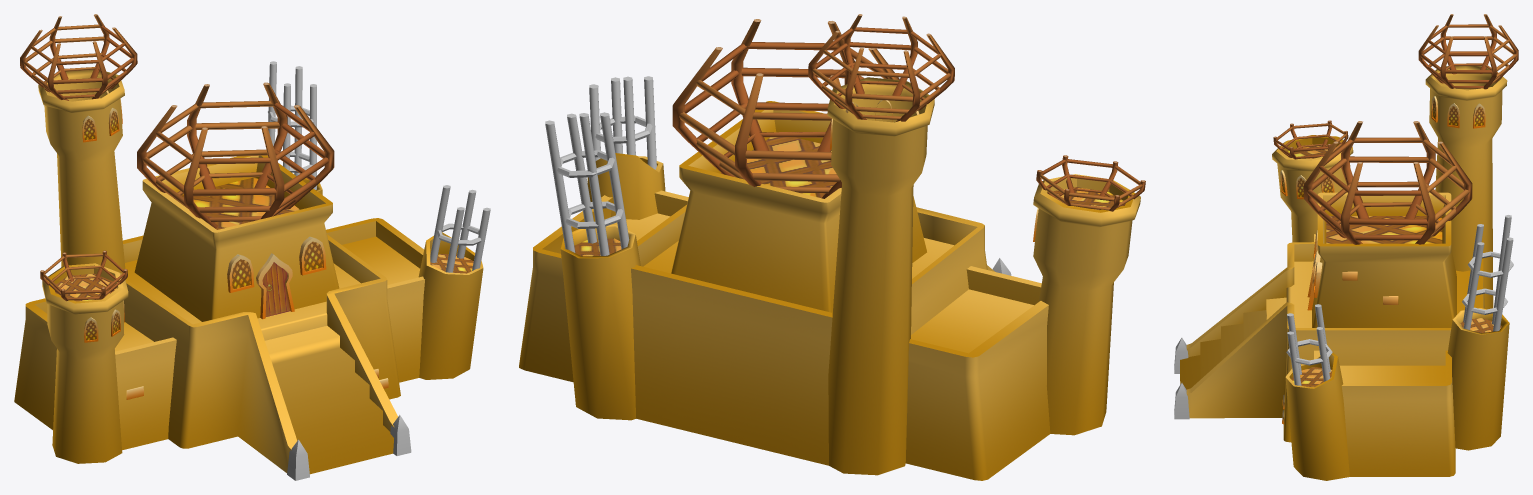
Rendered from ArabianHouse_XL_11.fbx.
3 views of the same model, side by side, from view 1: azimuth 30°, elevation 25°; view 2: azimuth 150°, elevation 25°; view 3: azimuth 270°, elevation 25° (orthographic). The views are drawn at different scales.
Parts seen in each view (by area): view 1: ArabianHouse_XL_11; view 2: ArabianHouse_XL_11; view 3: ArabianHouse_XL_11.
Part boxes in pixels (bbox=[...]): ArabianHouse_XL_11: bbox=[14, 14, 490, 480]; ArabianHouse_XL_11: bbox=[519, 14, 1145, 480]; ArabianHouse_XL_11: bbox=[1174, 14, 1518, 480].
Bounding box in the file's own units: 10.92 × 8.37 × 8.22.
